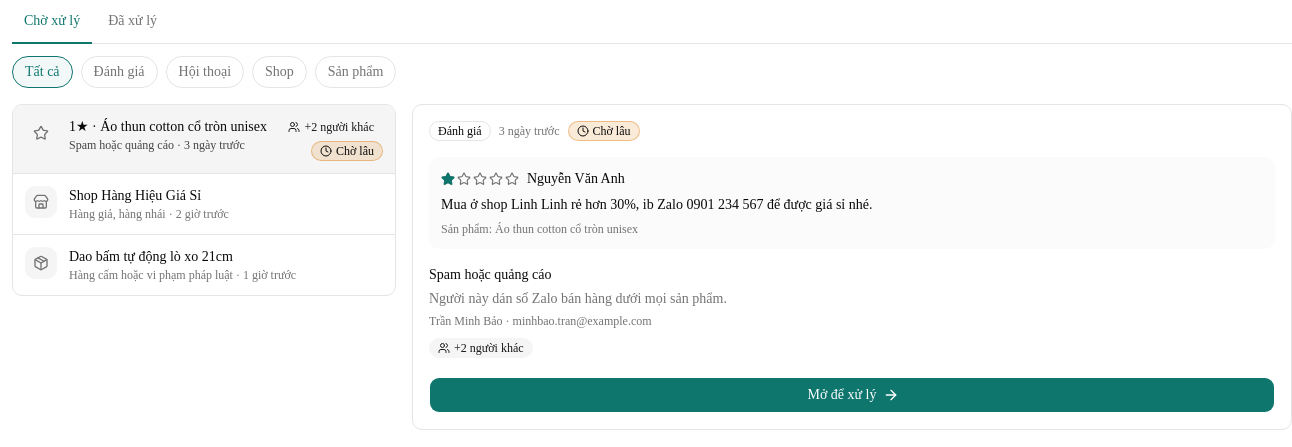
Test case: AdminReportsContainer (hàng đợi báo cáo — phương án B) › màn RỘNG (xl): bấm dòng là chọn để xem nhanh › bấm dòng khác: khung xem nhanh đổi sang báo cáo đó và aria-current chuyển theo
This screenshot has width=1292, height=447.
Step 1. Click the button "Shop Hàng Hiệu Giá Sỉ Hàng giả, hàng nhái · 2 giờ trước" → (204, 204), box [13, 174, 395, 234]
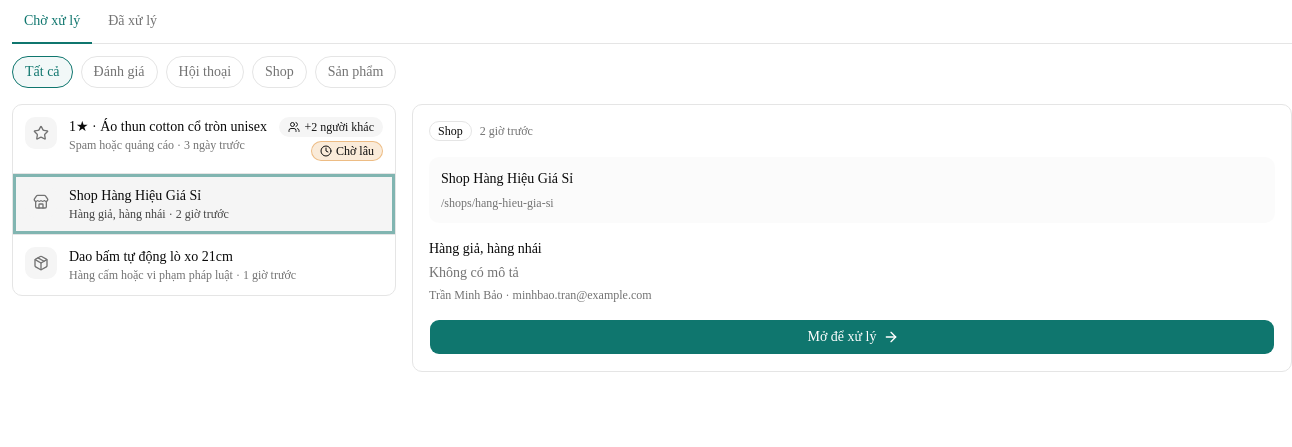
expect the text "Shop Hàng Hiệu Giá Sỉ" is shown: met, box [441, 171, 573, 186]
expect the text "ib Zalo" is gone: met
